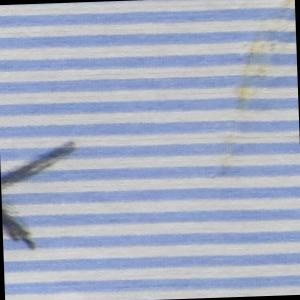Oil Stain: (210, 1, 300, 178)
Stain: (1, 137, 91, 256)
